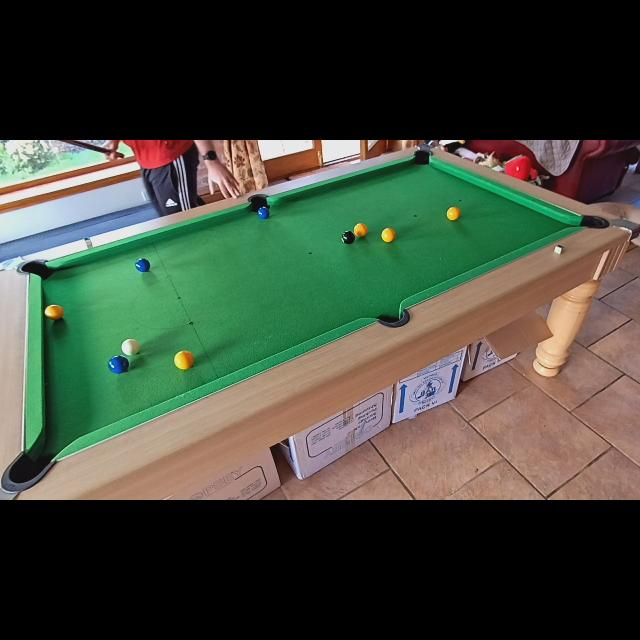Ball: (173, 350, 194, 370), (108, 355, 130, 373), (121, 338, 139, 356), (45, 304, 65, 320), (380, 228, 396, 242), (447, 206, 461, 222), (353, 223, 367, 237), (136, 258, 150, 272), (341, 230, 355, 244), (256, 207, 270, 220)
